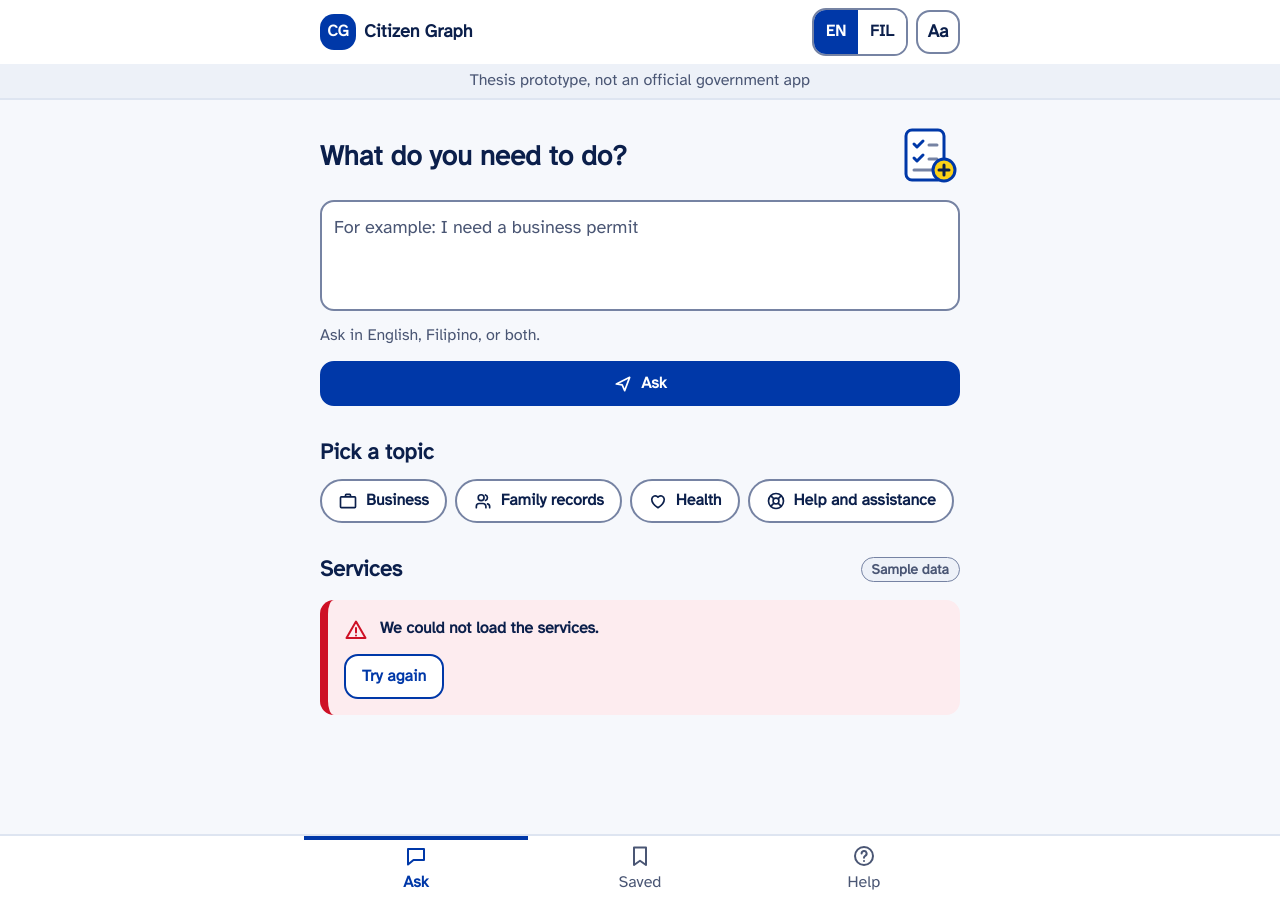
Test: home screen › shows an error card with a retry button when services cannot load
Check: the message shows "We could not load the services.", box 380,618 -> 598,638
Click the button "Try again": point(394, 676) 344,654 -> 444,699
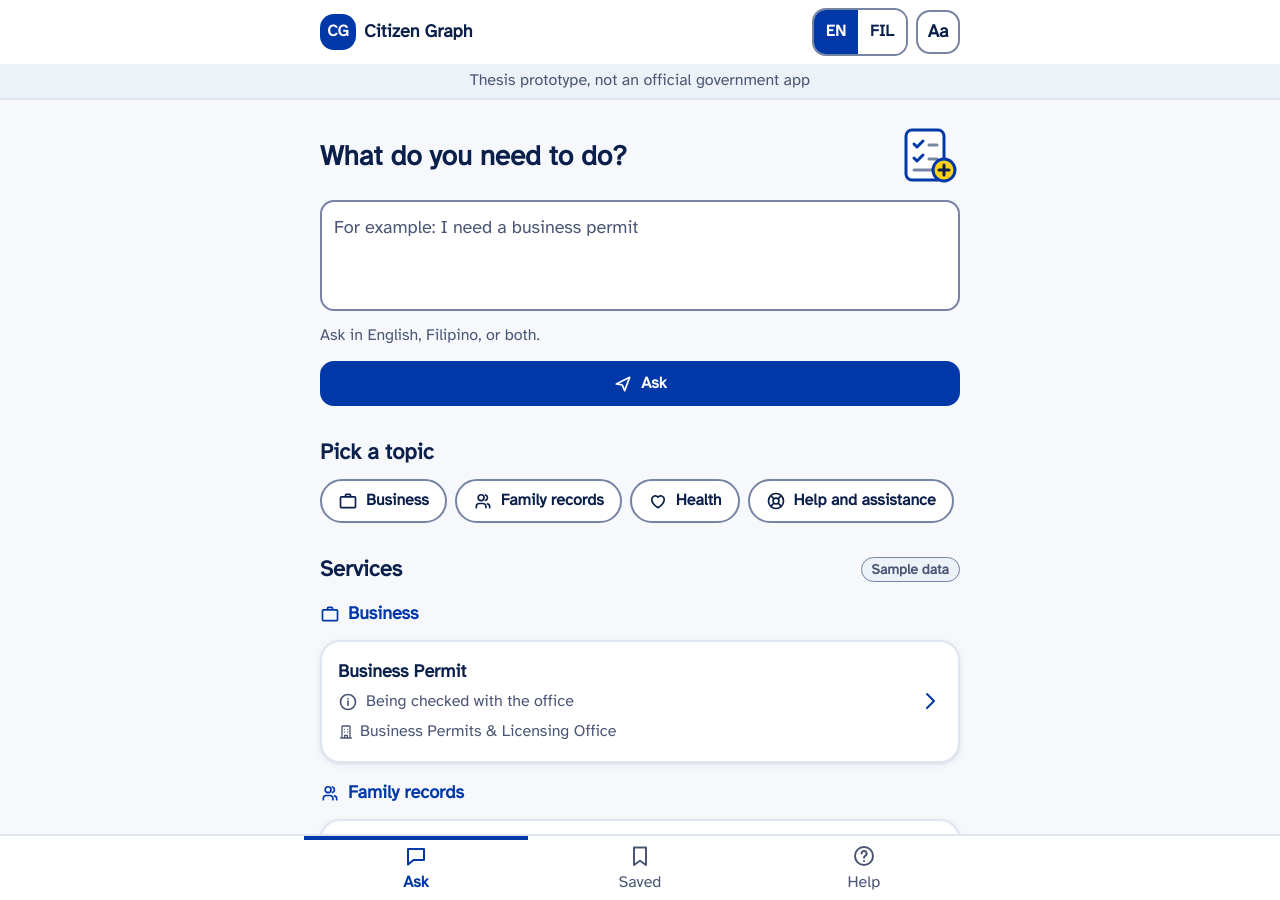
Check: the text "Business Permit" is shown, box 338,660 -> 466,682
